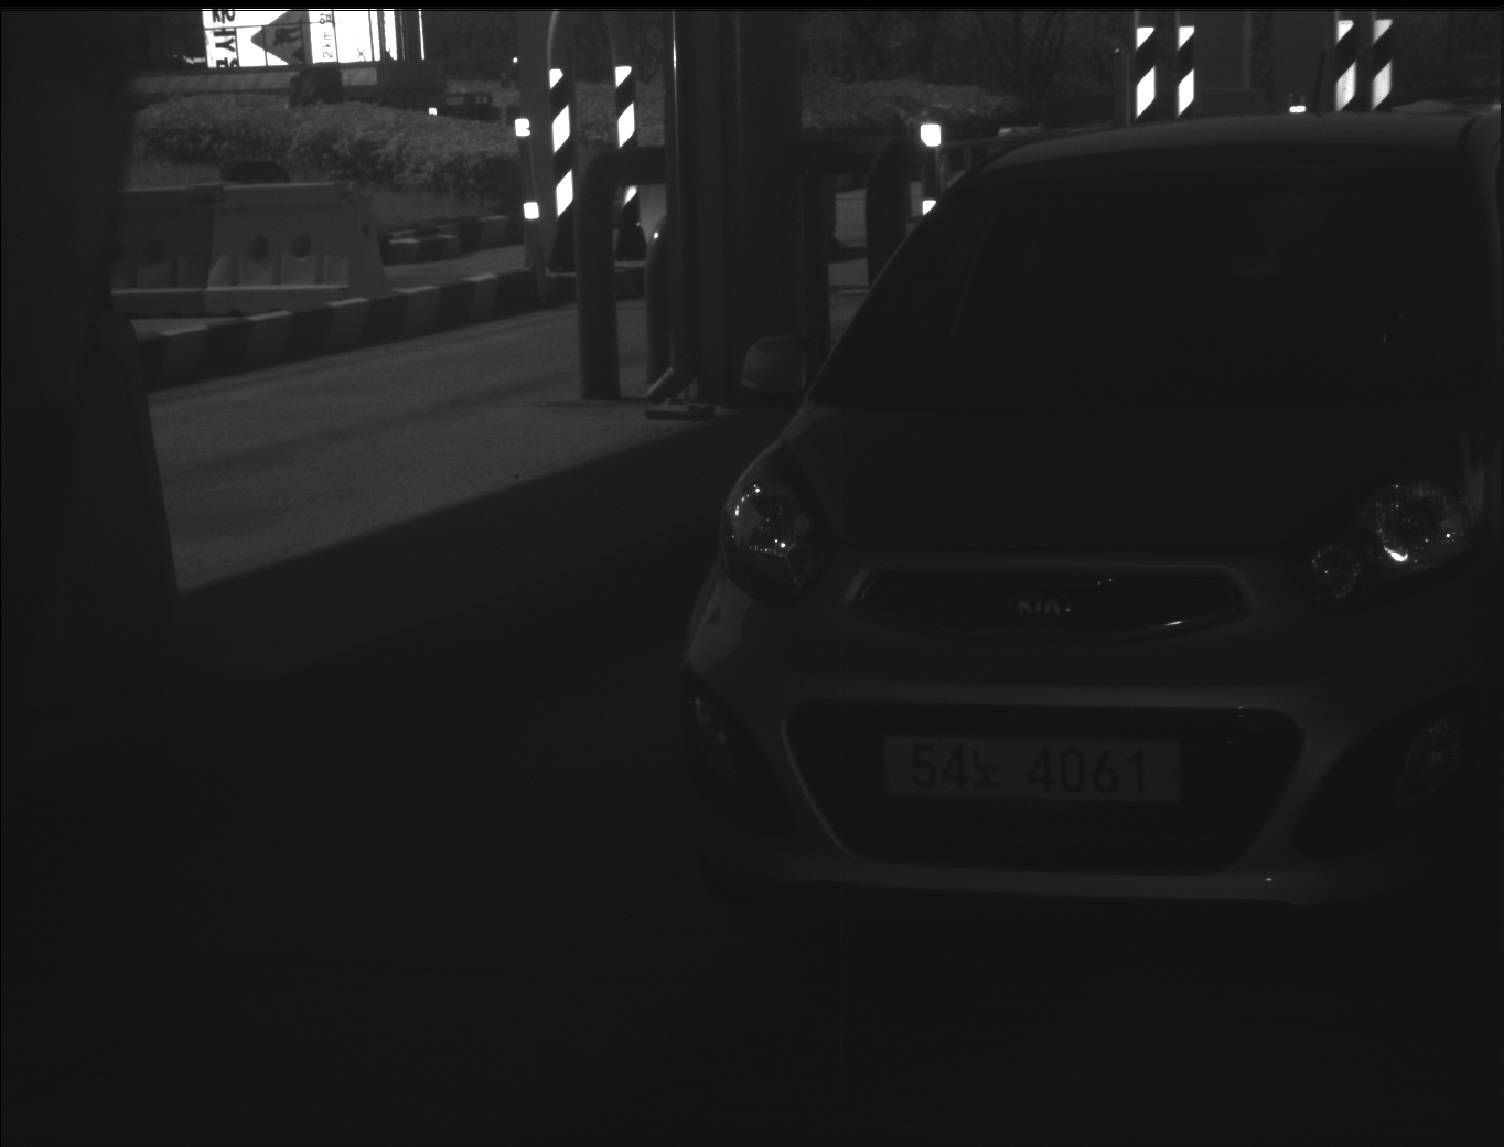car: (667, 99, 1502, 935)
plate: (877, 731, 1182, 803)
